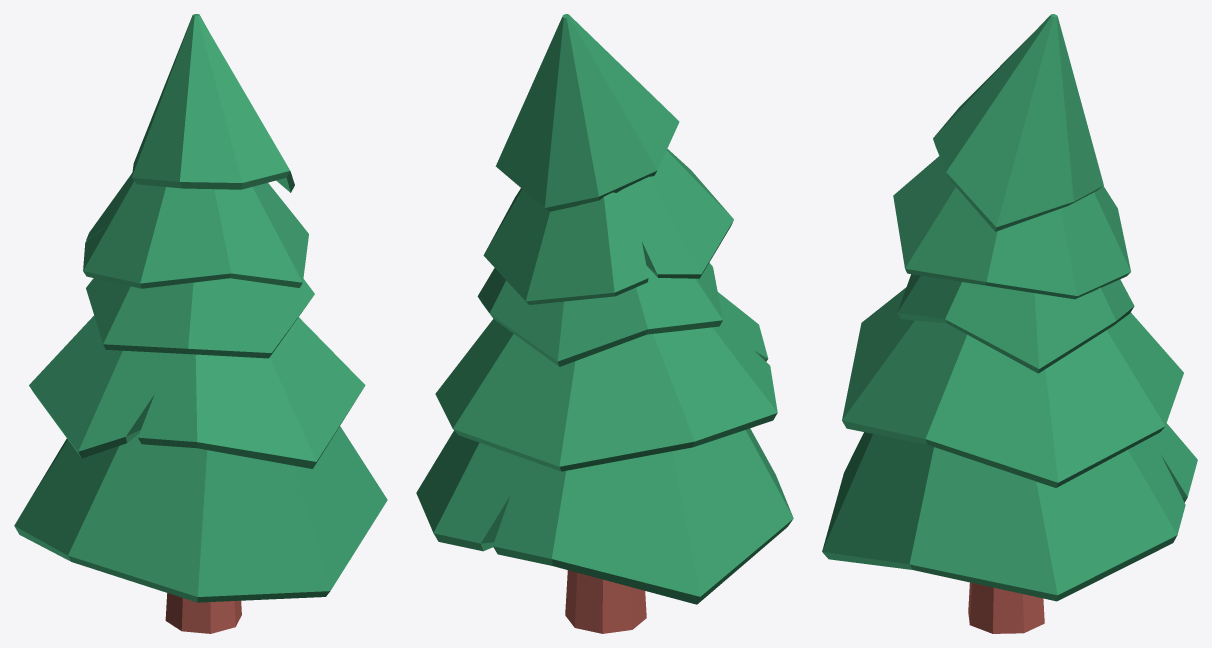
Rendered from Tree2_small_summer.FBX.
3 views of the same model, side by side, from view 1: azimuth 30°, elevation 25°; view 2: azimuth 150°, elevation 25°; view 3: azimuth 270°, elevation 25° (orthographic). The views are drawn at different scales.
Parts seen in each view (by area): view 1: Tree 2 small; view 2: Tree 2 small; view 3: Tree 2 small.
Part boxes in pixels (x1,y1,x2,y2): Tree 2 small: (14, 14, 387, 633); Tree 2 small: (416, 14, 793, 633); Tree 2 small: (822, 14, 1197, 633).
Bounding box in the file's own units: 1.52 × 2.71 × 1.51.
